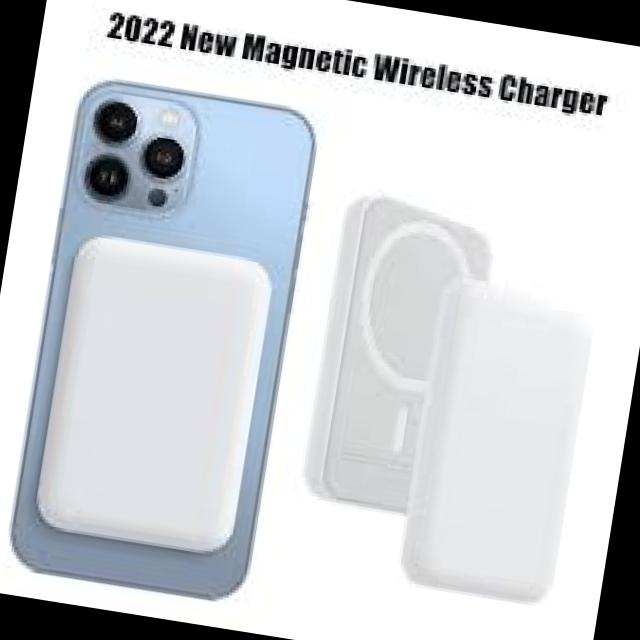portable-charger: (20, 220, 288, 571), (389, 280, 609, 608), (294, 185, 501, 531)
